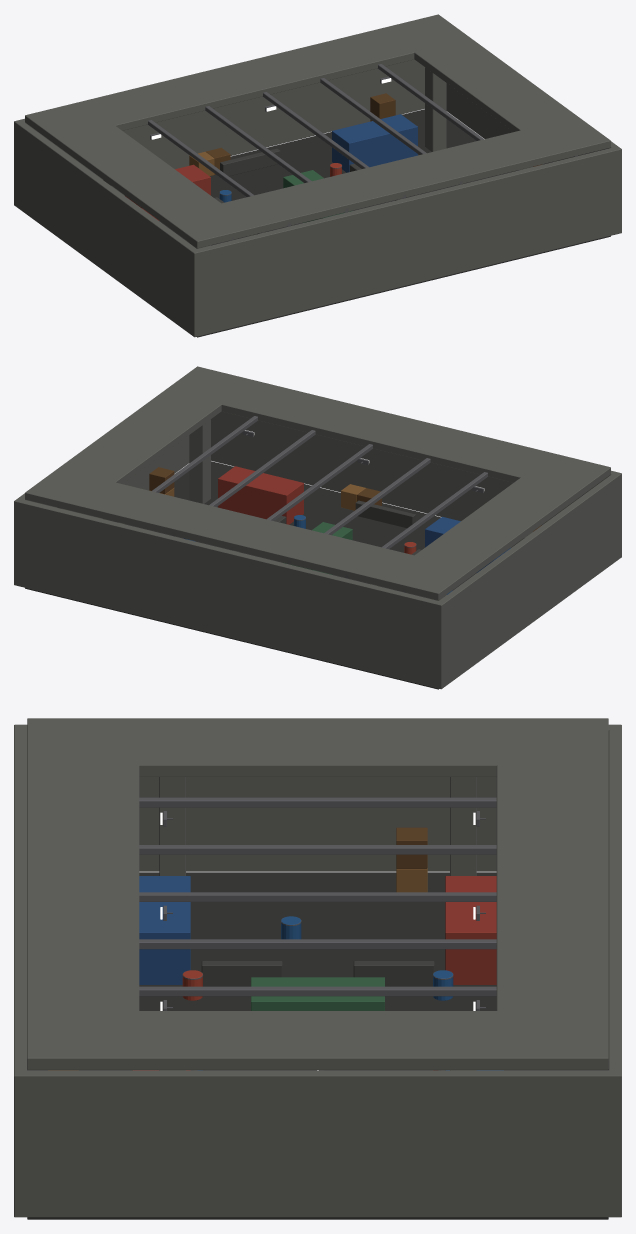
Rendered from arena.glb.
The picture shows the model from 3 angles, top to bottom: view 1: azimuth 30°, elevation 25°; view 2: azimuth 150°, elevation 25°; view 3: azimuth 270°, elevation 25°; orthographic projection. The views are drawn at different scales.
Visible parts, largest first — view 1: m_wall.003, m_wall, m_ceiling, m_ceiling.002, m_wall.001, m_ceiling.001, m_ceiling.003, m_floor, m_container.004, m_wall.002, m_pillar.002, m_lowwall.004 (+7 smaller); view 2: m_wall.001, m_wall, m_ceiling, m_ceiling.002, m_wall.003, m_ceiling.001, m_ceiling.003, m_floor, m_container.002, m_wall.002, m_pillar.003, m_lowwall.005 (+7 smaller); view 3: m_wall.002, m_ceiling, m_ceiling.002, m_ceiling.001, m_ceiling.003, m_floor, m_wall, m_wall.001, m_wall.003, m_container.001, m_container.003, m_truss.001 (+11 smaller).
Part boxes in pixels (x1,y1,x2,y2): m_wall.003: (190,146,621,336); m_wall: (17,120,200,337); m_ceiling: (29,14,470,145); m_ceiling.002: (166,116,610,247); m_wall.001: (14,59,424,207); m_ceiling.001: (25,111,254,248); m_ceiling.003: (383,14,607,161); m_floor: (124,109,610,337); m_container.004: (332,114,417,172); m_wall.002: (446,83,621,234); m_pillar.002: (425,67,446,151); m_lowwall.004: (220,148,280,176); m_wall.001: (14,498,445,688); m_wall: (435,472,621,689); m_ceiling: (25,468,471,600); m_ceiling.002: (165,366,610,497); m_wall.003: (211,411,621,557); m_ceiling.001: (381,458,610,600); m_ceiling.003: (25,366,251,513); m_floor: (25,461,511,689); m_container.002: (218,466,303,524); m_wall.002: (14,435,189,586); m_pillar.003: (189,419,210,503); m_lowwall.005: (355,500,415,528); m_wall.002: (14,1070,621,1217); m_ceiling: (496,718,608,1069); m_ceiling.002: (27,718,139,1069); m_ceiling.001: (27,718,608,776); m_ceiling.003: (27,1011,608,1069); m_floor: (27,872,608,1219); m_wall: (14,724,621,871); m_wall.001: (608,724,621,1217); m_wall.003: (14,724,27,1217); m_container.001: (445,876,496,984); m_container.003: (139,876,190,984); m_truss.001: (139,797,496,807).
Size of the model in its own units: 37.2 by 8 by 27.2.
